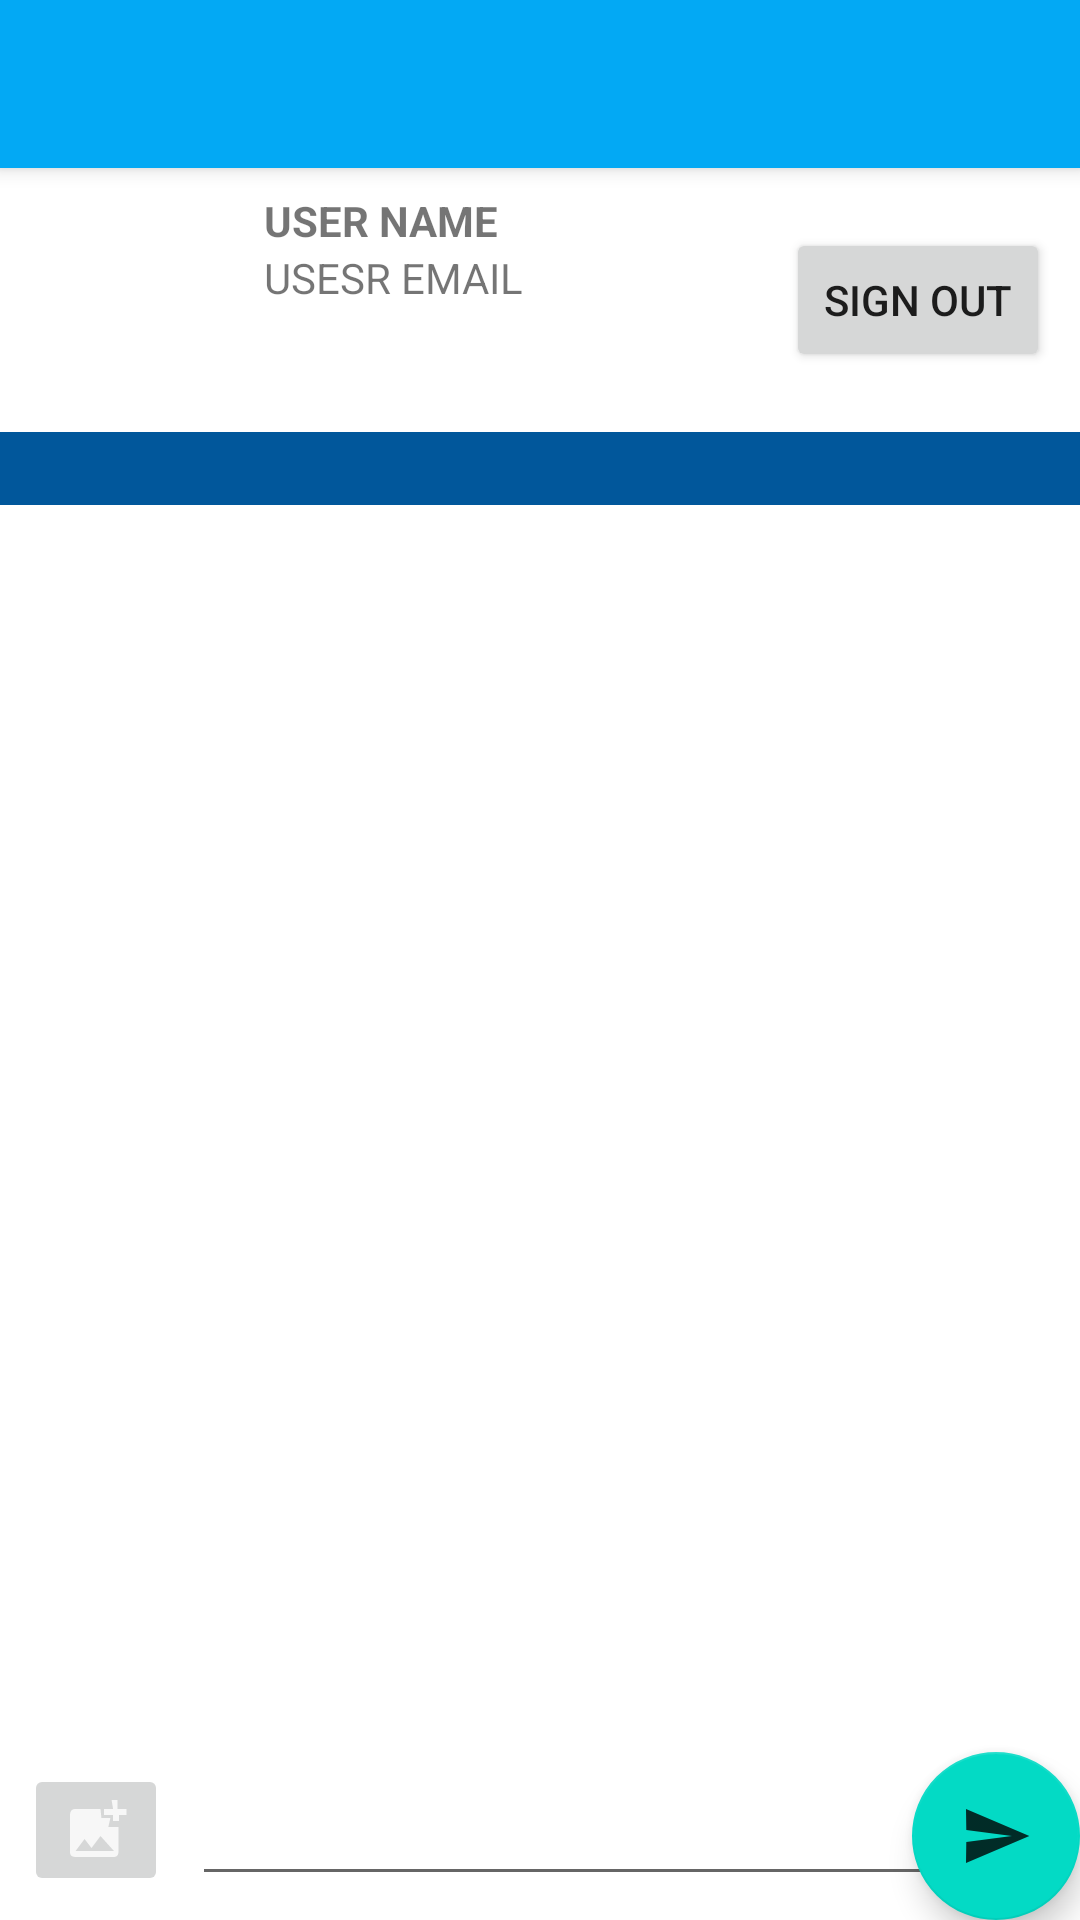

Named icons in this screenshot (1080w x 1920h) and their centers, point (x, y):
add: point (96, 1830)
send: point (996, 1836)
